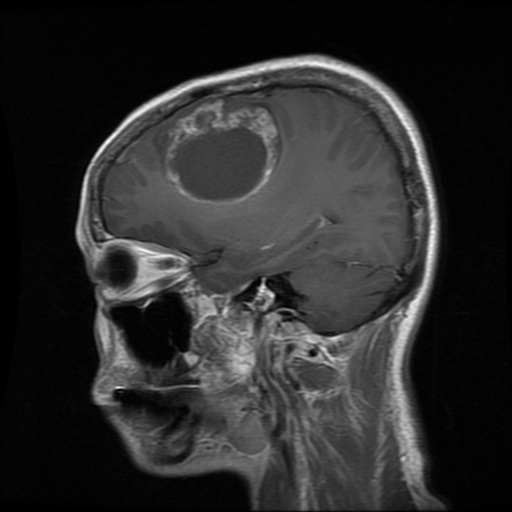glioma: (160, 98, 284, 208)
